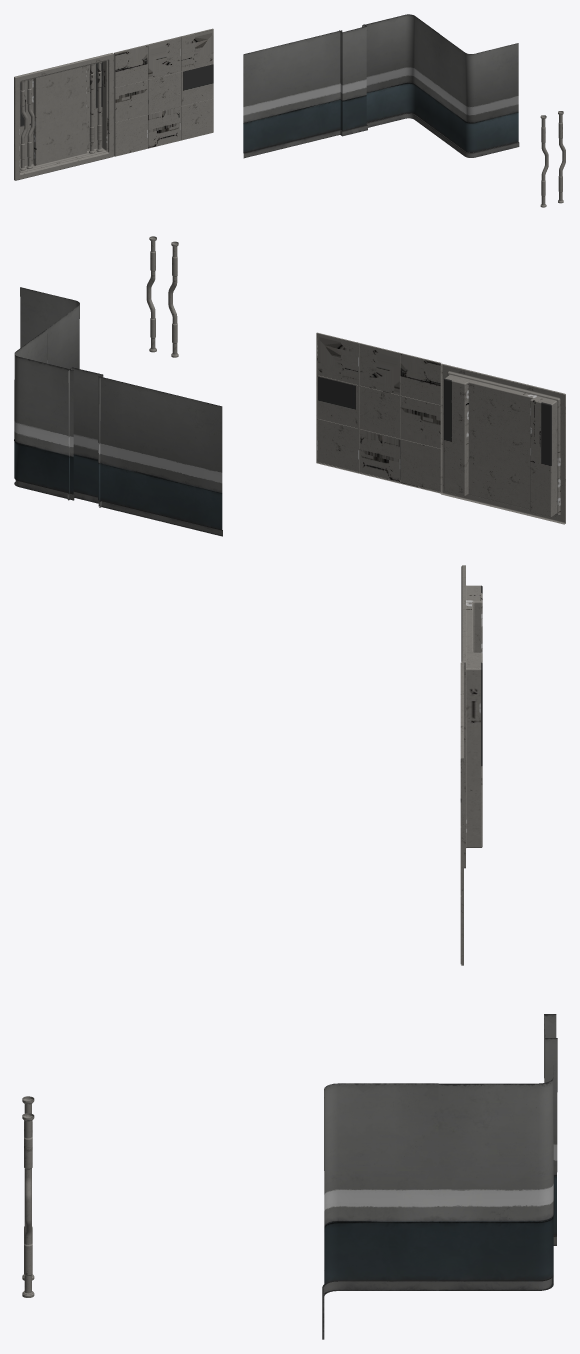
File: StylizingAiRoomModulars.fbx
3 views of the same model, one above another, from view 1: azimuth 30°, elevation 25°; view 2: azimuth 150°, elevation 25°; view 3: azimuth 270°, elevation 25° (orthographic). The views are drawn at different scales.
Parts seen in each view (by area): view 1: SM_Ceiling_02, SM_Ceiling_01, Sm_AIRoomWall_01, Sm_AIRoomWall_03, Sm_AIRoomWall_02, Sm_AIRoomWallPillar_01, Sm_CeilingsPipes_01, Sm_CeilingsPipes_02; view 2: SM_Ceiling_02, SM_Ceiling_01, Sm_AIRoomWall_01, Sm_AIRoomWall_02, Sm_AIRoomWallPillar_01, Sm_AIRoomWall_03, Sm_CeilingsPipes_01, Sm_CeilingsPipes_02; view 3: Sm_AIRoomWall_02, Sm_AIRoomWall_03, SM_Ceiling_02, Sm_AIRoomWallPillar_01, Sm_CeilingsPipes_02, SM_Ceiling_01.
Part boxes in pixels (x1,y1,x2,y2): SM_Ceiling_02: [14, 53, 113, 180]; SM_Ceiling_01: [114, 28, 213, 156]; Sm_AIRoomWall_01: [243, 30, 342, 158]; Sm_AIRoomWall_03: [439, 34, 519, 157]; Sm_AIRoomWall_02: [362, 14, 440, 137]; Sm_AIRoomWallPillar_01: [339, 24, 367, 136]; Sm_CeilingsPipes_01: [540, 115, 548, 207]; Sm_CeilingsPipes_02: [558, 111, 565, 203]; SM_Ceiling_02: [440, 363, 565, 524]; SM_Ceiling_01: [316, 332, 441, 493]; Sm_AIRoomWall_01: [98, 376, 222, 536]; Sm_AIRoomWall_02: [14, 329, 74, 500]; Sm_AIRoomWallPillar_01: [67, 367, 103, 507]; Sm_AIRoomWall_03: [20, 287, 79, 368]; Sm_CeilingsPipes_01: [168, 241, 178, 357]; Sm_CeilingsPipes_02: [146, 236, 156, 352]; Sm_AIRoomWall_02: [438, 1065, 554, 1290]; Sm_AIRoomWall_03: [322, 1083, 438, 1339]; SM_Ceiling_02: [461, 565, 482, 868]; Sm_AIRoomWallPillar_01: [544, 1014, 557, 1245]; Sm_CeilingsPipes_02: [22, 1113, 34, 1297]; SM_Ceiling_01: [460, 661, 463, 965].
Bounding box in the file's own units: 948 × 306 × 468.
